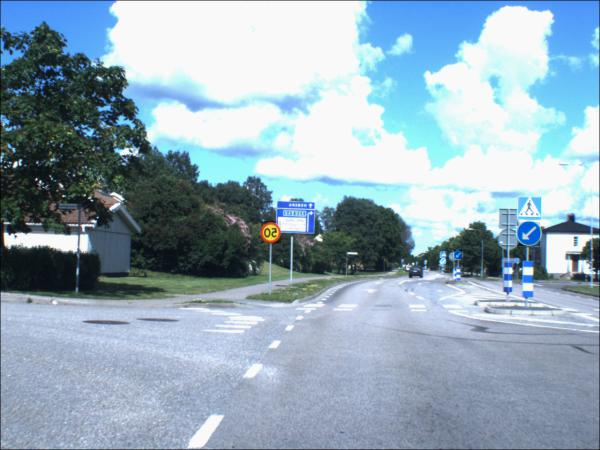50_SIGN: (261, 222, 282, 245)
PASS_RIGHT_SIDE: (517, 223, 541, 248), (454, 251, 463, 261), (441, 259, 447, 266)
PEDESTRIAN_CROSSING: (519, 198, 541, 221), (441, 253, 447, 259)
